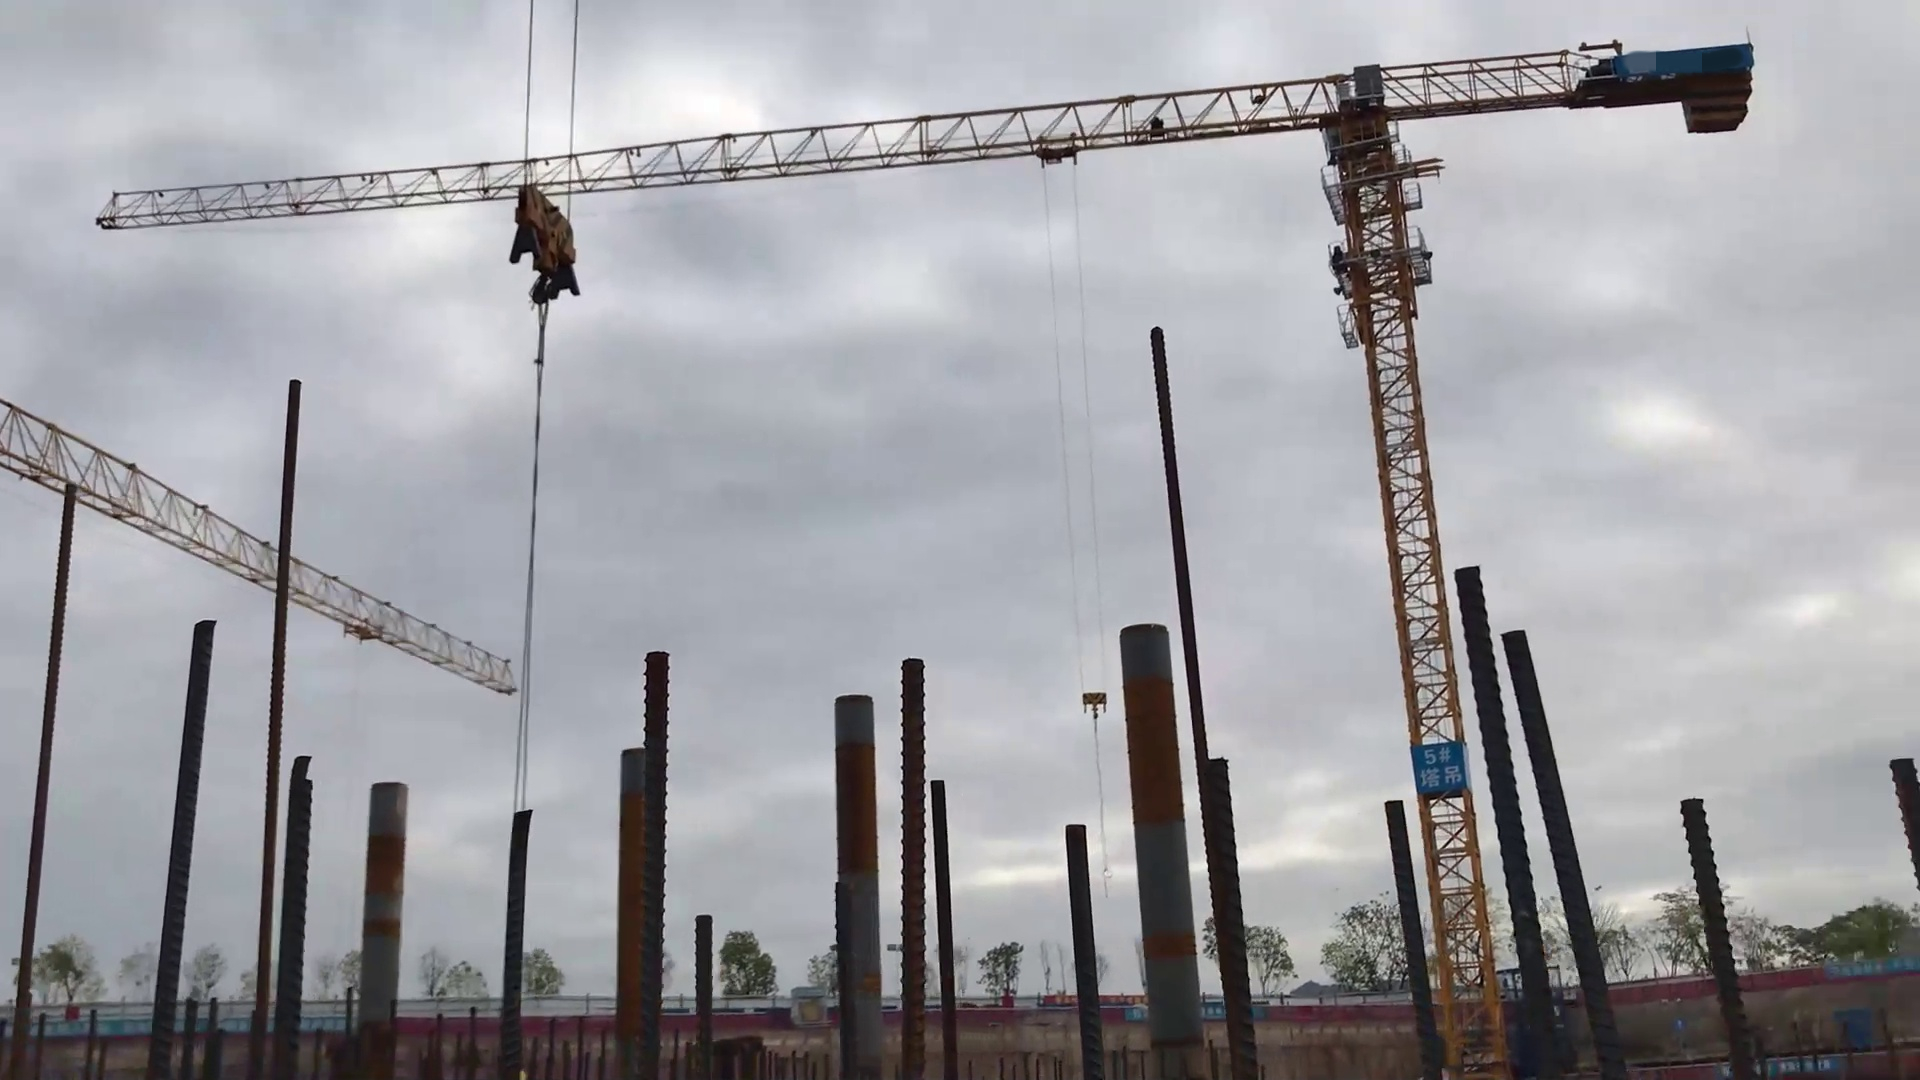hook: (502, 171, 585, 318)
